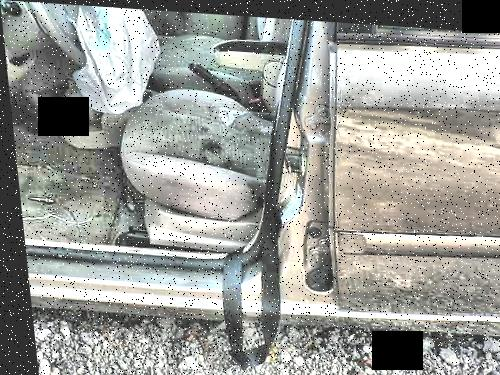seatbelt: (194, 158, 296, 375)
